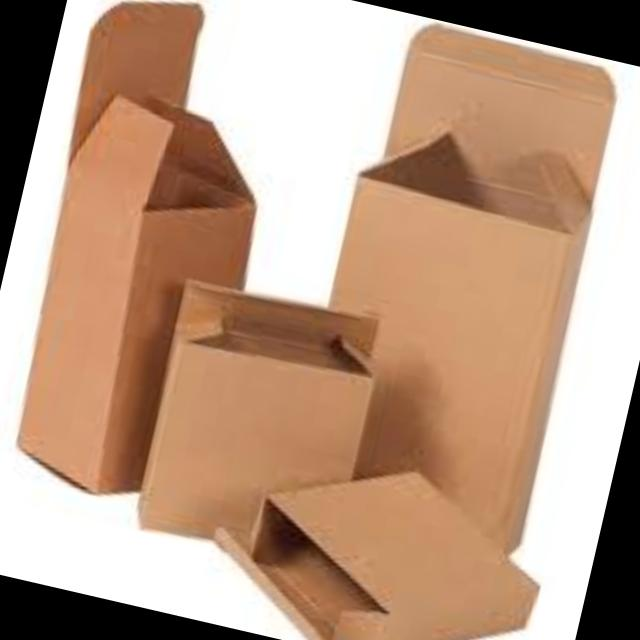cardboard paper: (15, 0, 609, 640), (327, 20, 609, 541), (15, 0, 248, 485), (138, 276, 369, 529), (211, 466, 533, 640)
